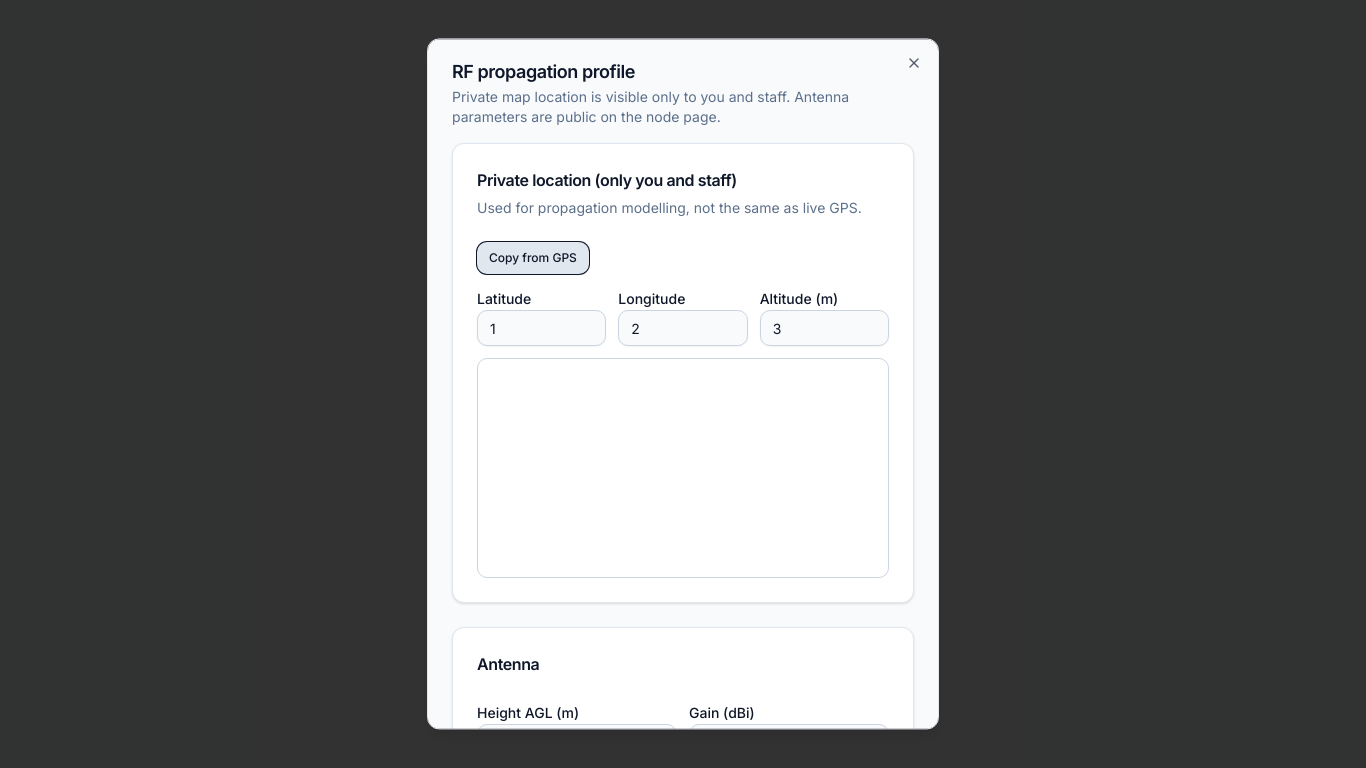
RfProfileModal › closes profile dialog after save and opens re-render confirm when coords changed
The width and height of the screenshot is (1366, 768).
Replace the text in the number field labelled "Latitude" with "9.5": (542, 328) [477,310,606,346]
(page scrolled)
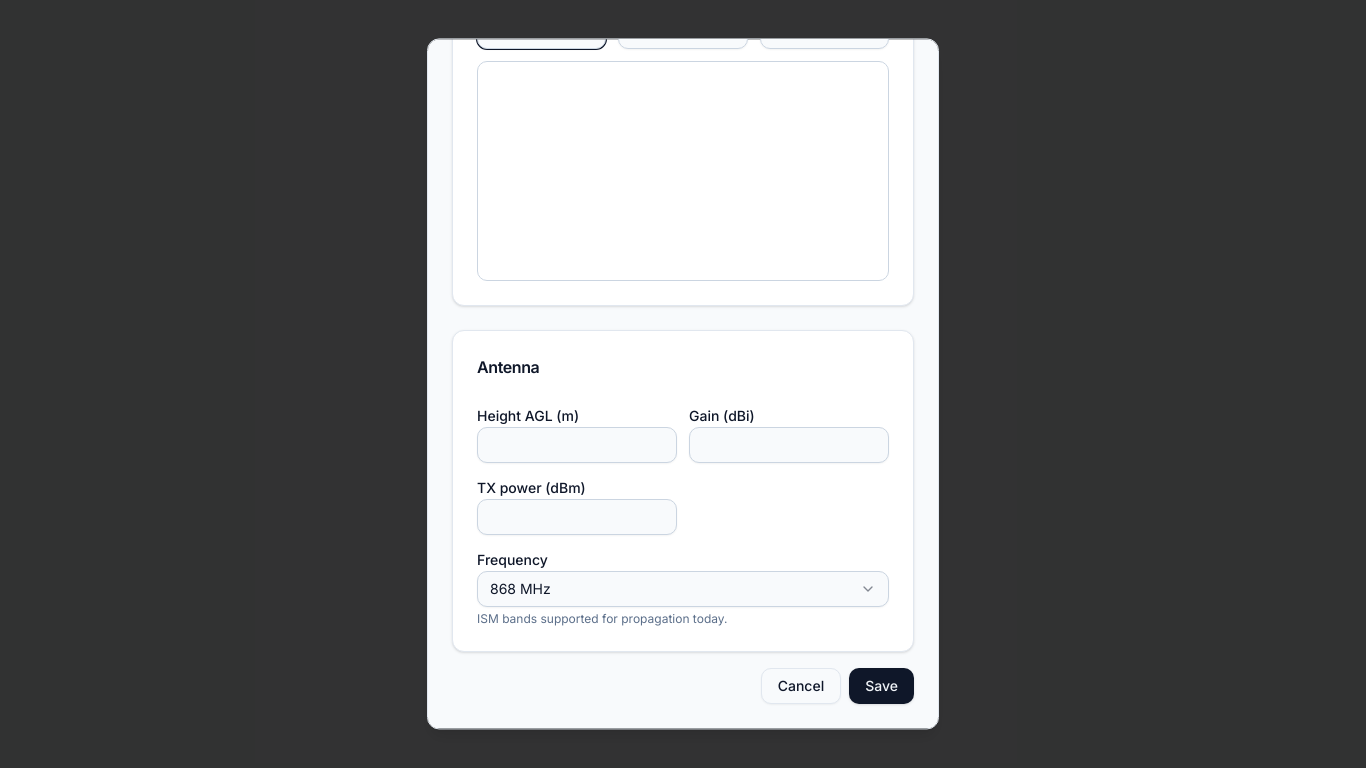
Click the button "Save": (882, 686) [849,668,914,704]
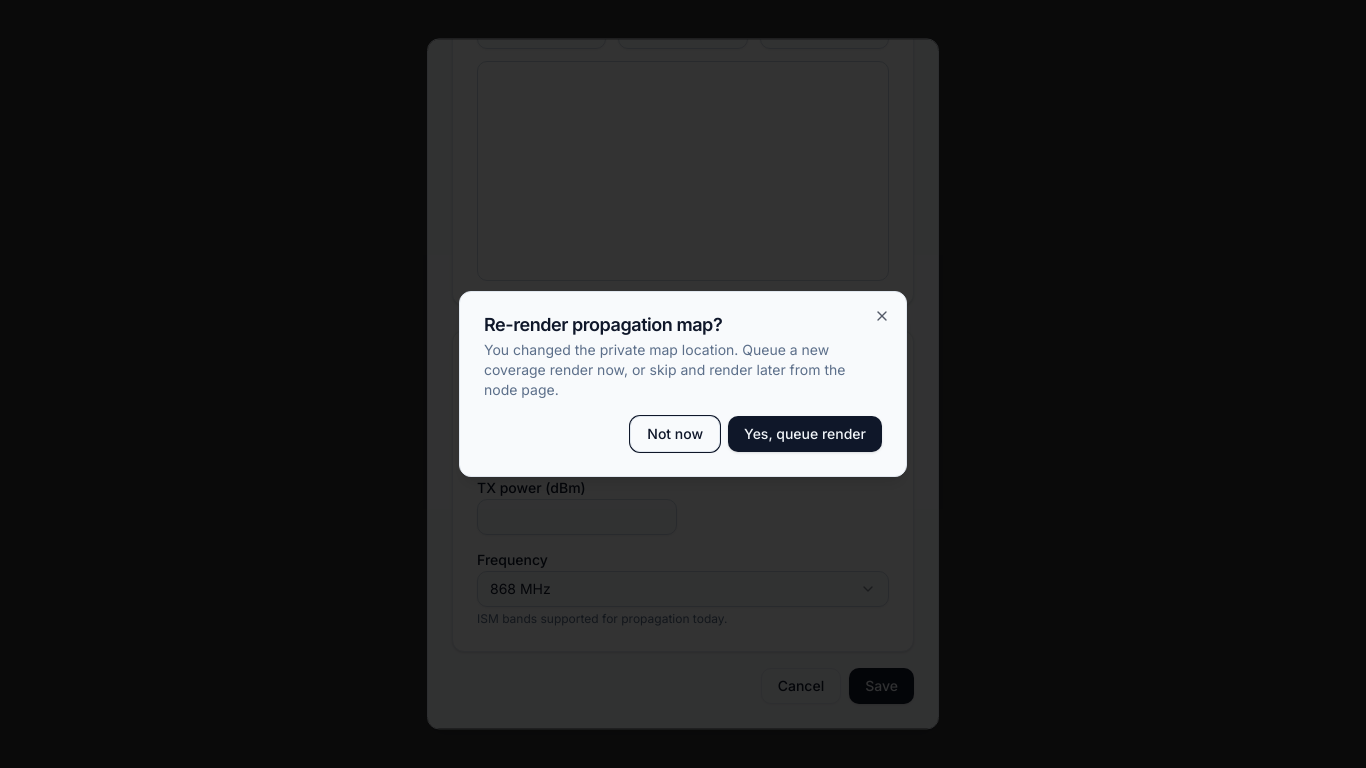
Now the heading "Re-render propagation map?" is shown, box [484,314,722,335]
